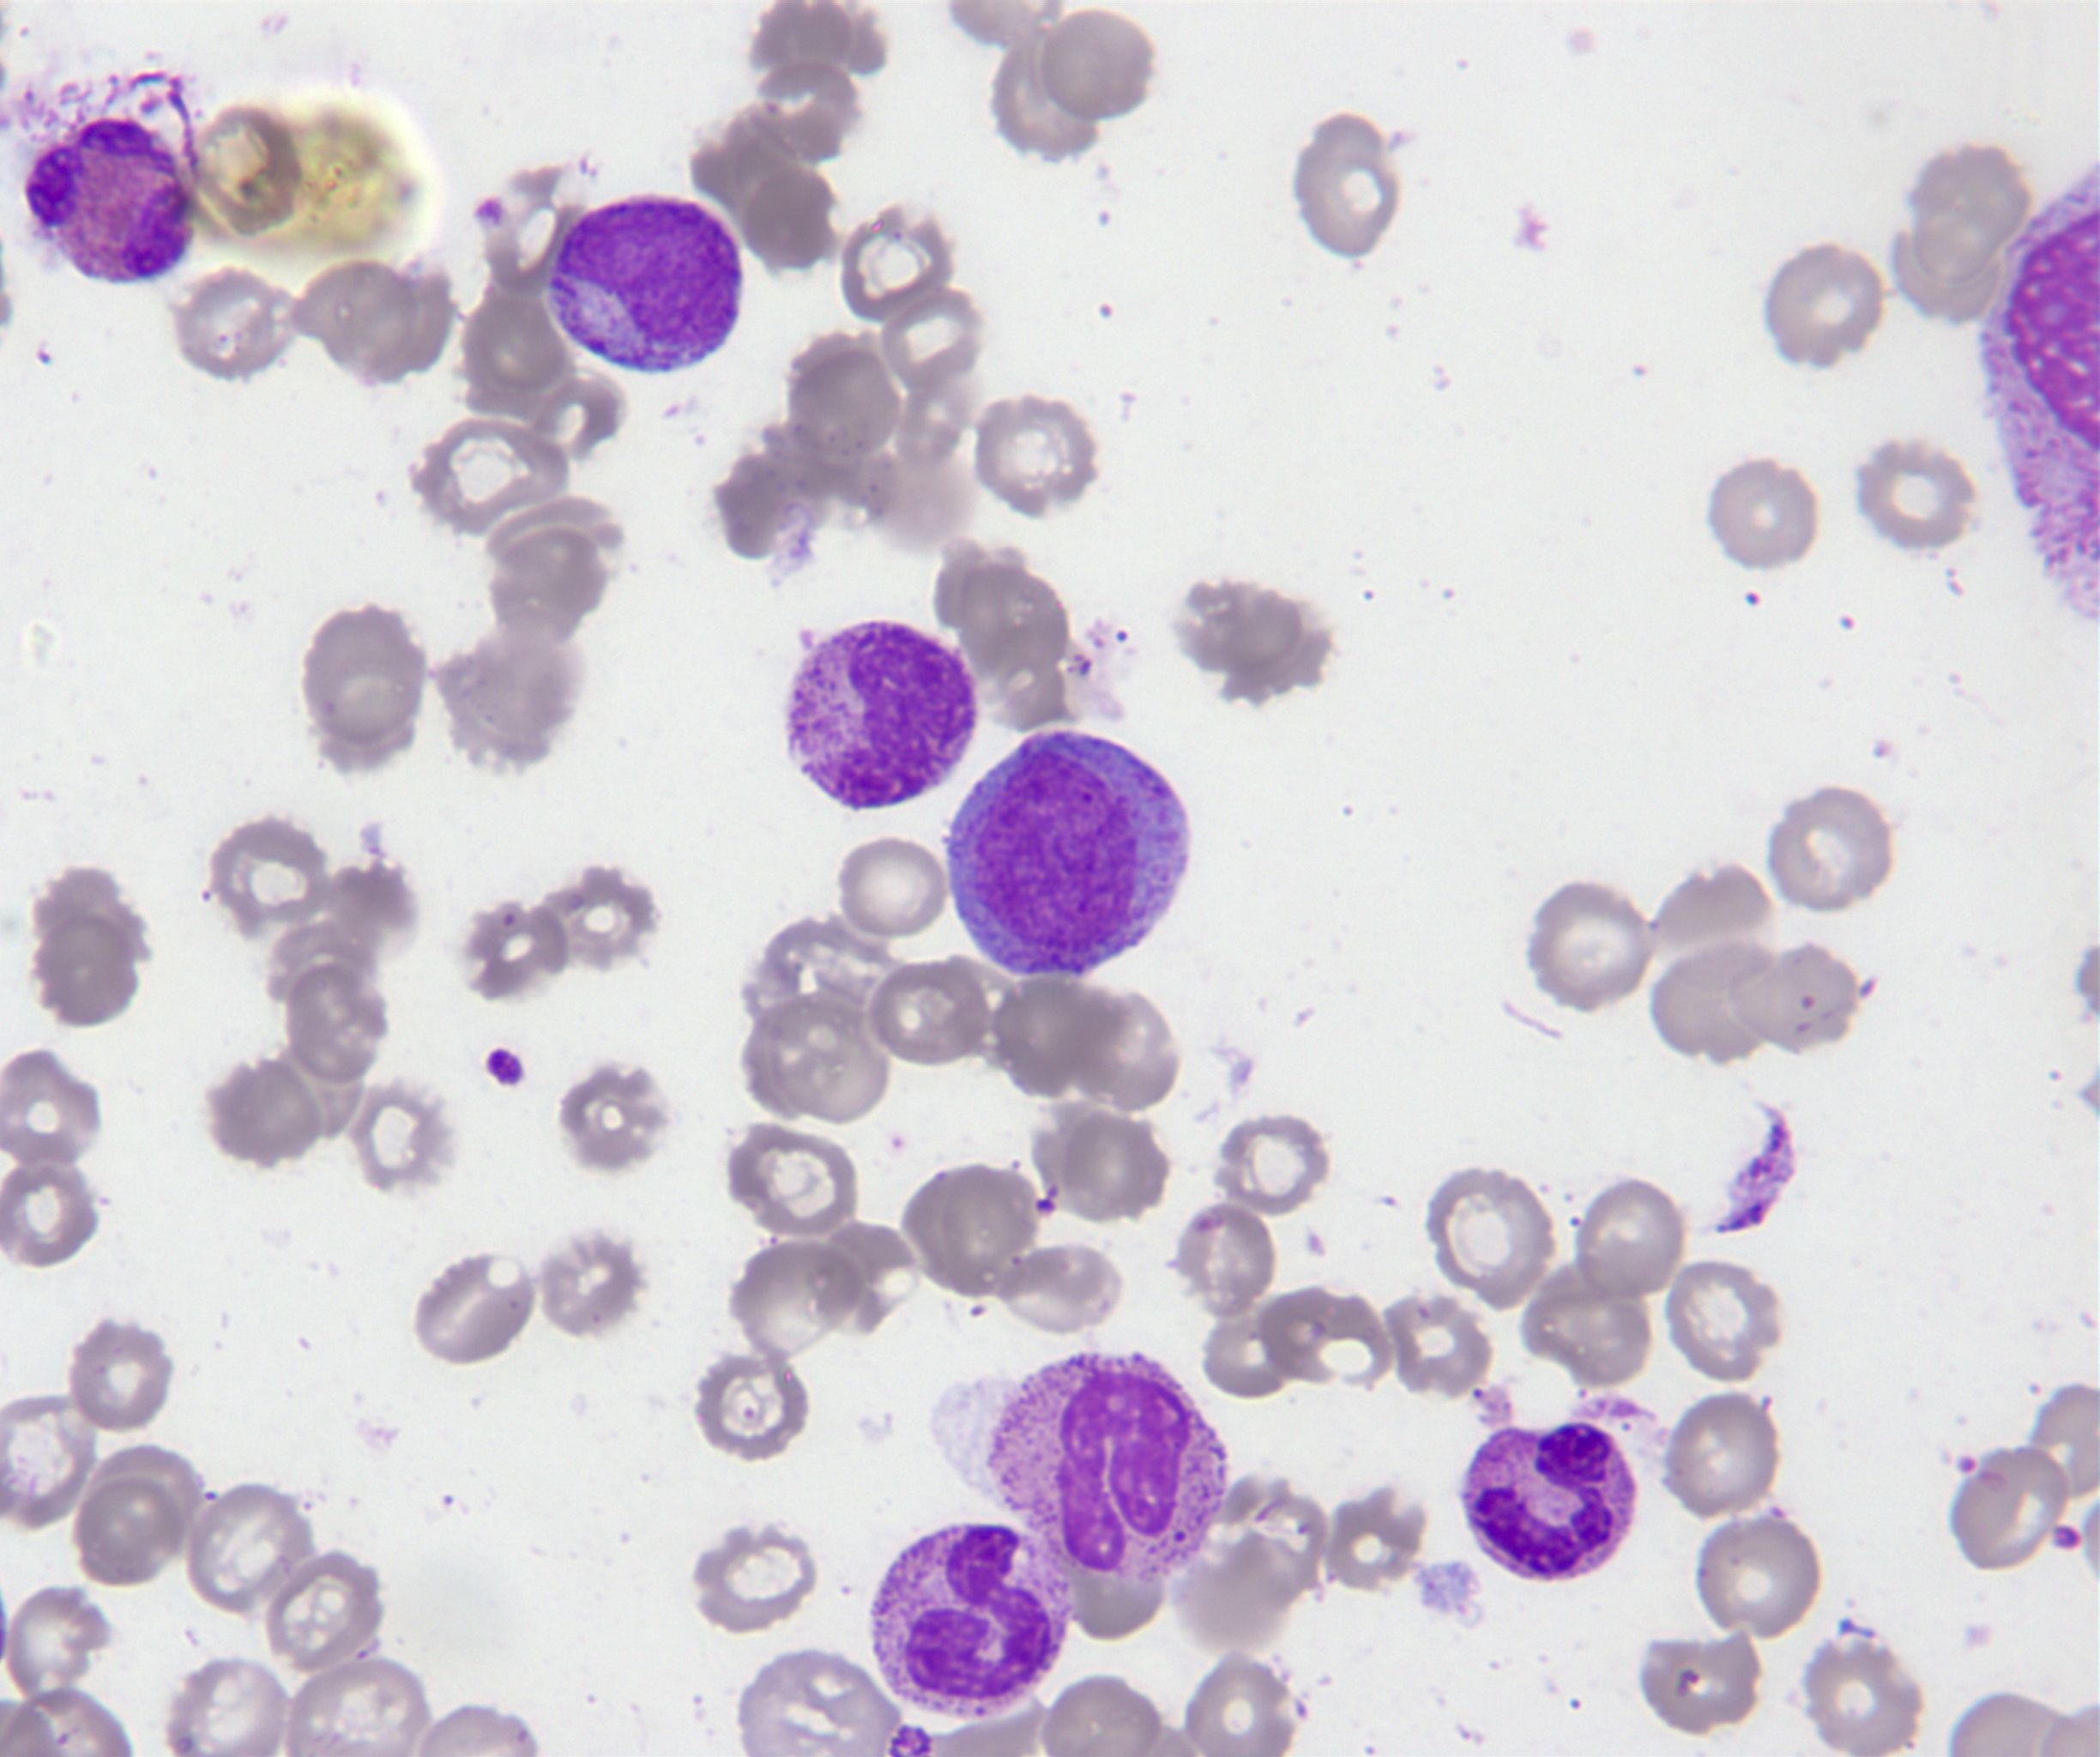2: (938, 721, 1197, 982)
3: (548, 188, 748, 380)
5: (978, 1340, 1230, 1591)
6: (863, 1516, 1080, 1726), (778, 616, 980, 817), (1455, 1420, 1638, 1590)
E4: (19, 110, 197, 293)
